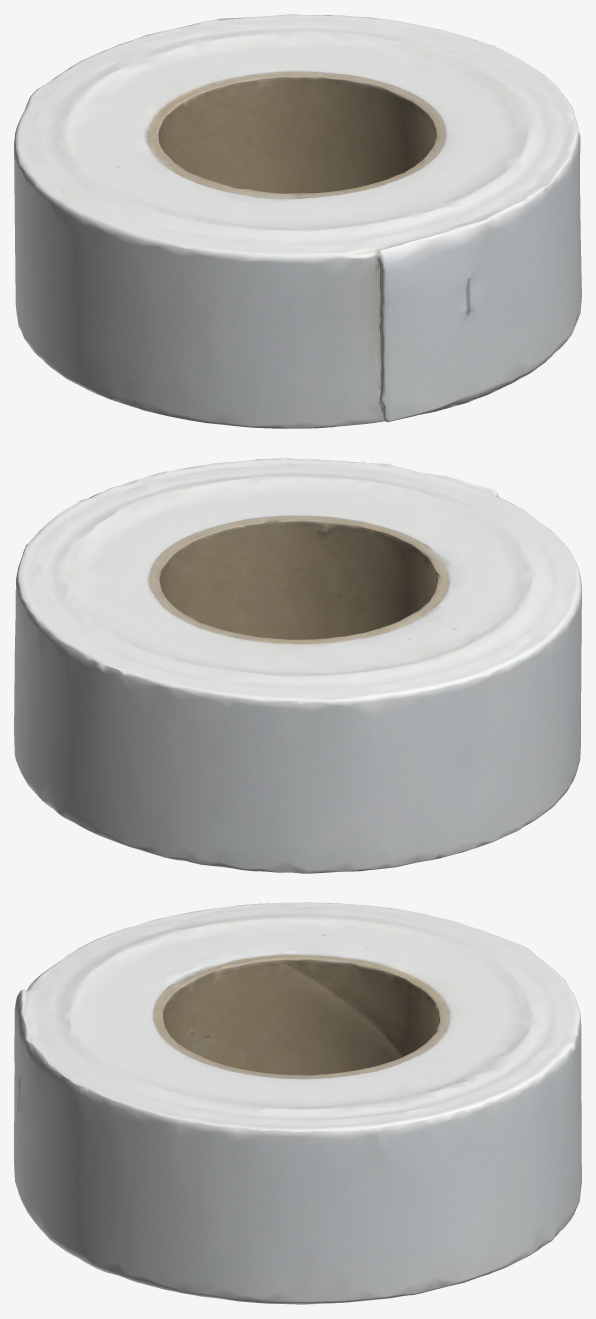
Rendered from Cole_Hardware_Antislip_Surfacing_White_2_x_60.glb.
3 views of the same model, one above another, from view 1: azimuth 30°, elevation 25°; view 2: azimuth 150°, elevation 25°; view 3: azimuth 270°, elevation 25° (orthographic).
Visible parts, largest first — view 1: Cole_Hardware_Antislip_Surfacing_White_2_x_60; view 2: Cole_Hardware_Antislip_Surfacing_White_2_x_60; view 3: Cole_Hardware_Antislip_Surfacing_White_2_x_60.
Part boxes in pixels (x1,y1,x2,y2): Cole_Hardware_Antislip_Surfacing_White_2_x_60: [14, 14, 581, 428]; Cole_Hardware_Antislip_Surfacing_White_2_x_60: [14, 457, 581, 873]; Cole_Hardware_Antislip_Surfacing_White_2_x_60: [14, 902, 581, 1304].
Size of the model in its own units: 0.157 by 0.0559 by 0.1578.
1 material, 1 textured.
